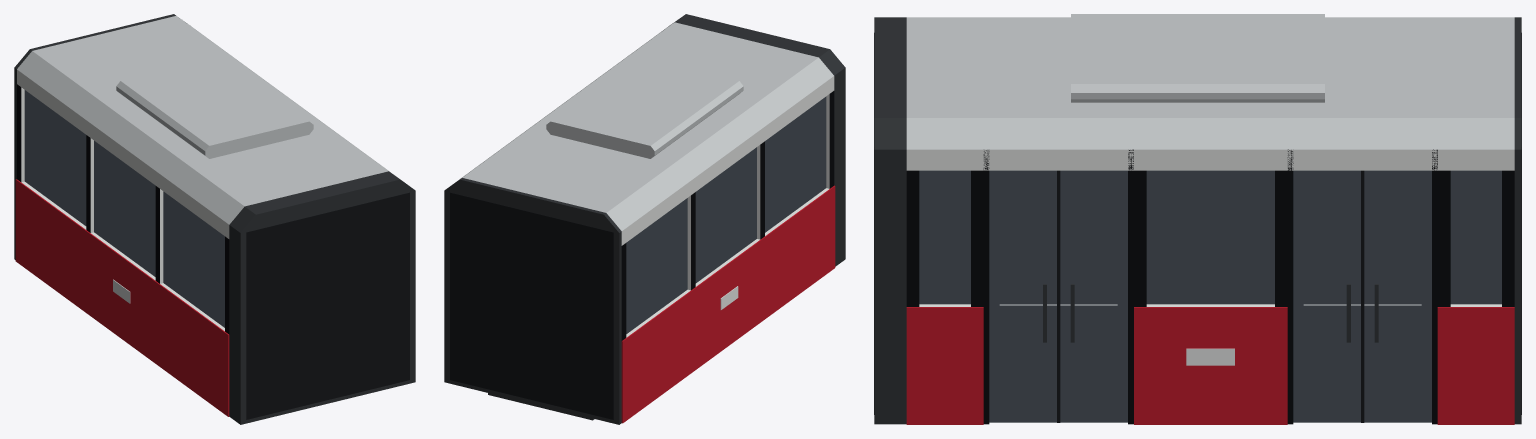
The picture shows the model from 3 angles, left to right: view 1: azimuth 30°, elevation 25°; view 2: azimuth 150°, elevation 25°; view 3: azimuth 270°, elevation 25°; orthographic projection. The views are drawn at different scales.
Visible parts, largest first — view 1: 52t-c; view 2: 52t-c; view 3: 52t-c.
Part boxes in pixels (left/top/right/bottom): 52t-c: left=14, top=14, right=415, bottom=424; 52t-c: left=444, top=14, right=845, bottom=424; 52t-c: left=874, top=14, right=1521, bottom=424.
Bounding box in the file's own units: 2.55 × 3.14 × 5.6.
